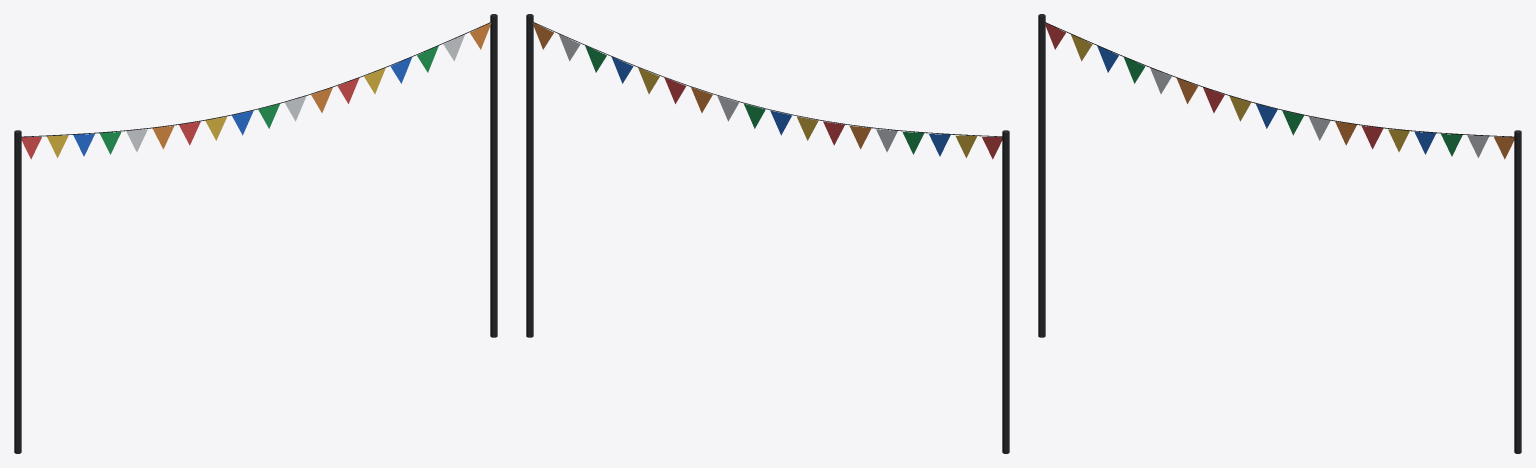
File: bunting_string.glb
3 renders of one model, left to right at view 1: azimuth 30°, elevation 25°; view 2: azimuth 150°, elevation 25°; view 3: azimuth 330°, elevation 25°, orthographic.
Parts seen in each view (by area): view 1: bunting_string; view 2: bunting_string; view 3: bunting_string.
Part boxes in pixels (bbox=[...]): bunting_string: bbox=[14, 14, 497, 453]; bunting_string: bbox=[526, 14, 1009, 453]; bunting_string: bbox=[1038, 14, 1521, 453].
Bounding box in the file's own units: 9.1 × 5.8 × 0.12.
